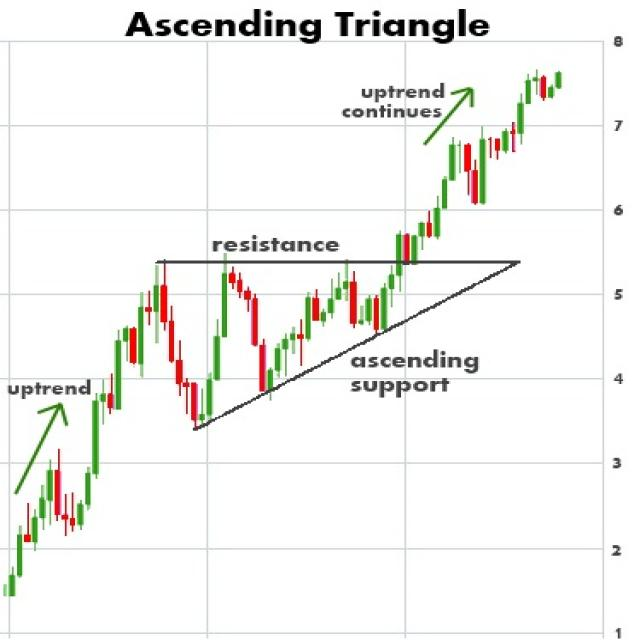Ascending-Triangle: (79, 262, 506, 480)
